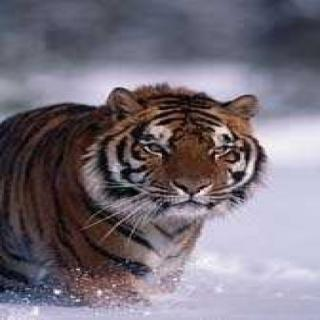Tiger: (0, 72, 272, 309)
